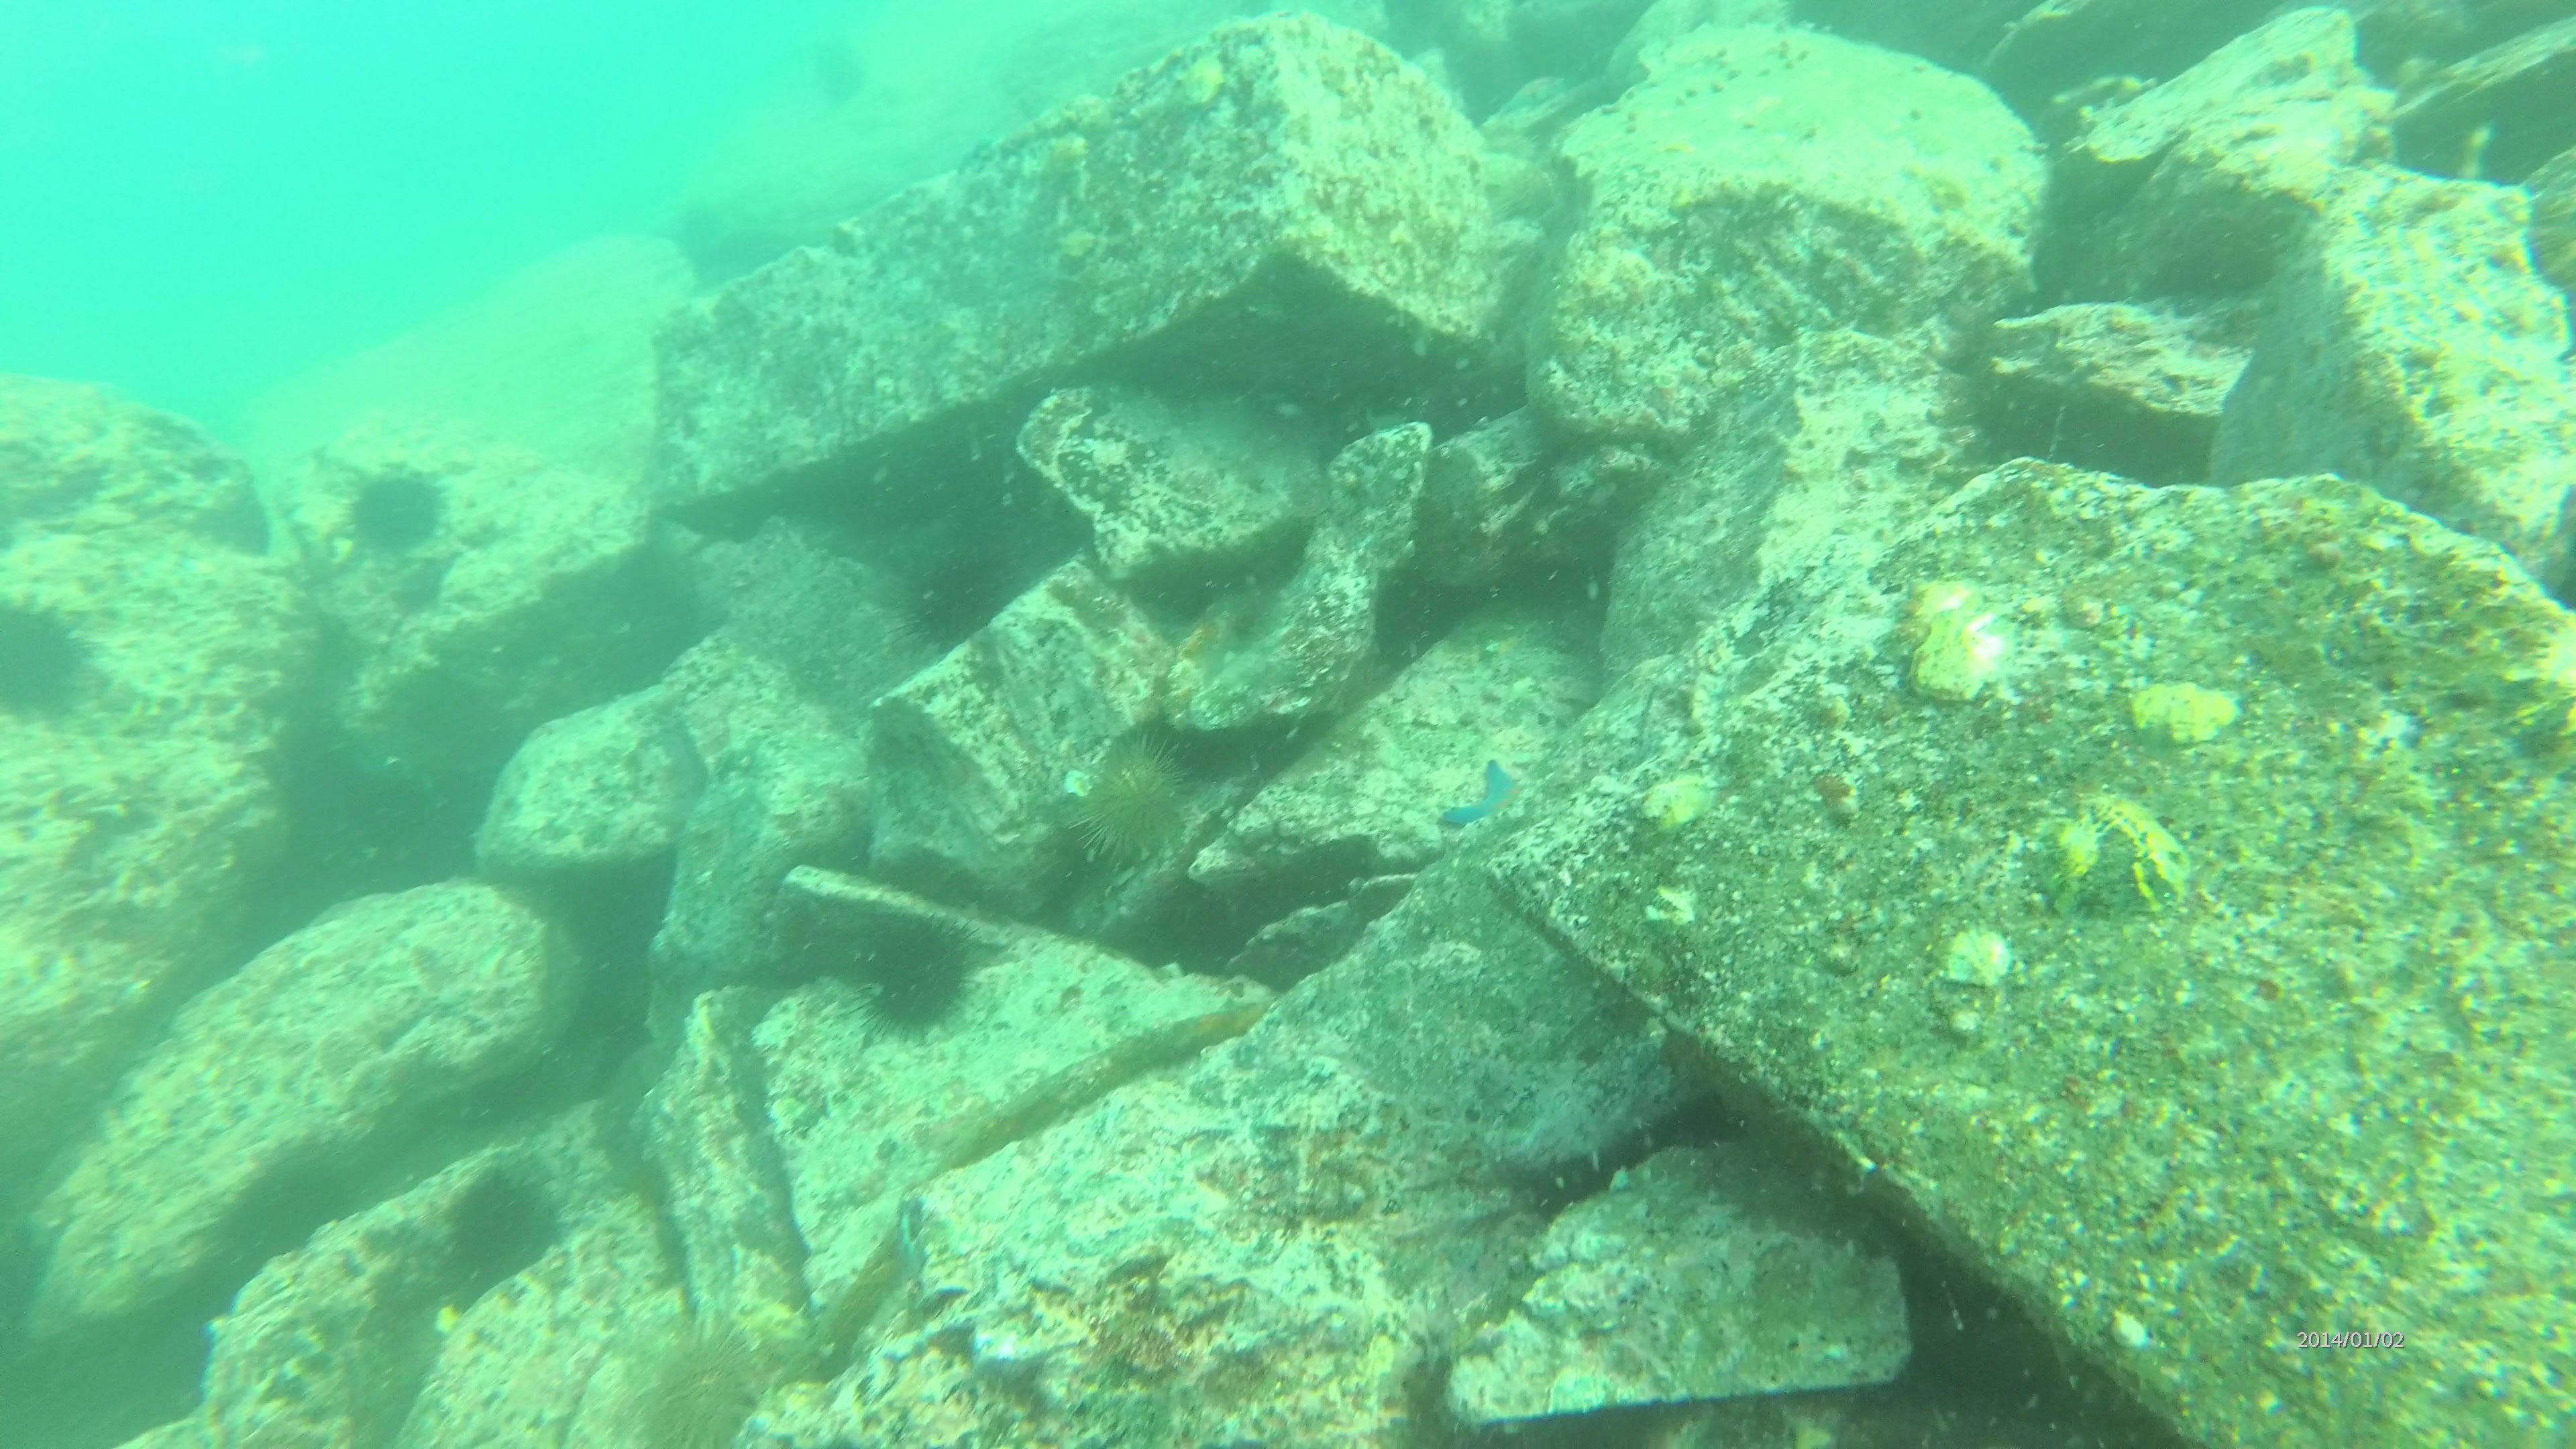echinus: (628, 1311, 773, 1449), (844, 908, 982, 1051), (0, 584, 111, 747), (433, 1166, 563, 1299), (1060, 745, 1194, 872), (203, 1161, 354, 1272), (904, 541, 1024, 667), (341, 460, 460, 573)
scallop: (2031, 782, 2199, 924), (1898, 573, 2040, 708), (2128, 672, 2254, 754), (1937, 922, 2019, 993), (1640, 768, 1725, 835), (1168, 48, 1238, 117), (1035, 126, 1100, 188)
starfish: (1430, 752, 1553, 855)
